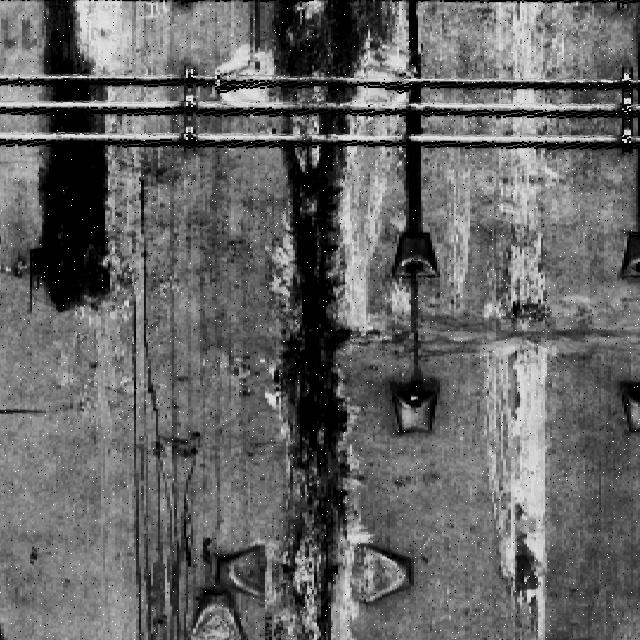leakage: (253, 1, 400, 640), (16, 1, 137, 347)
